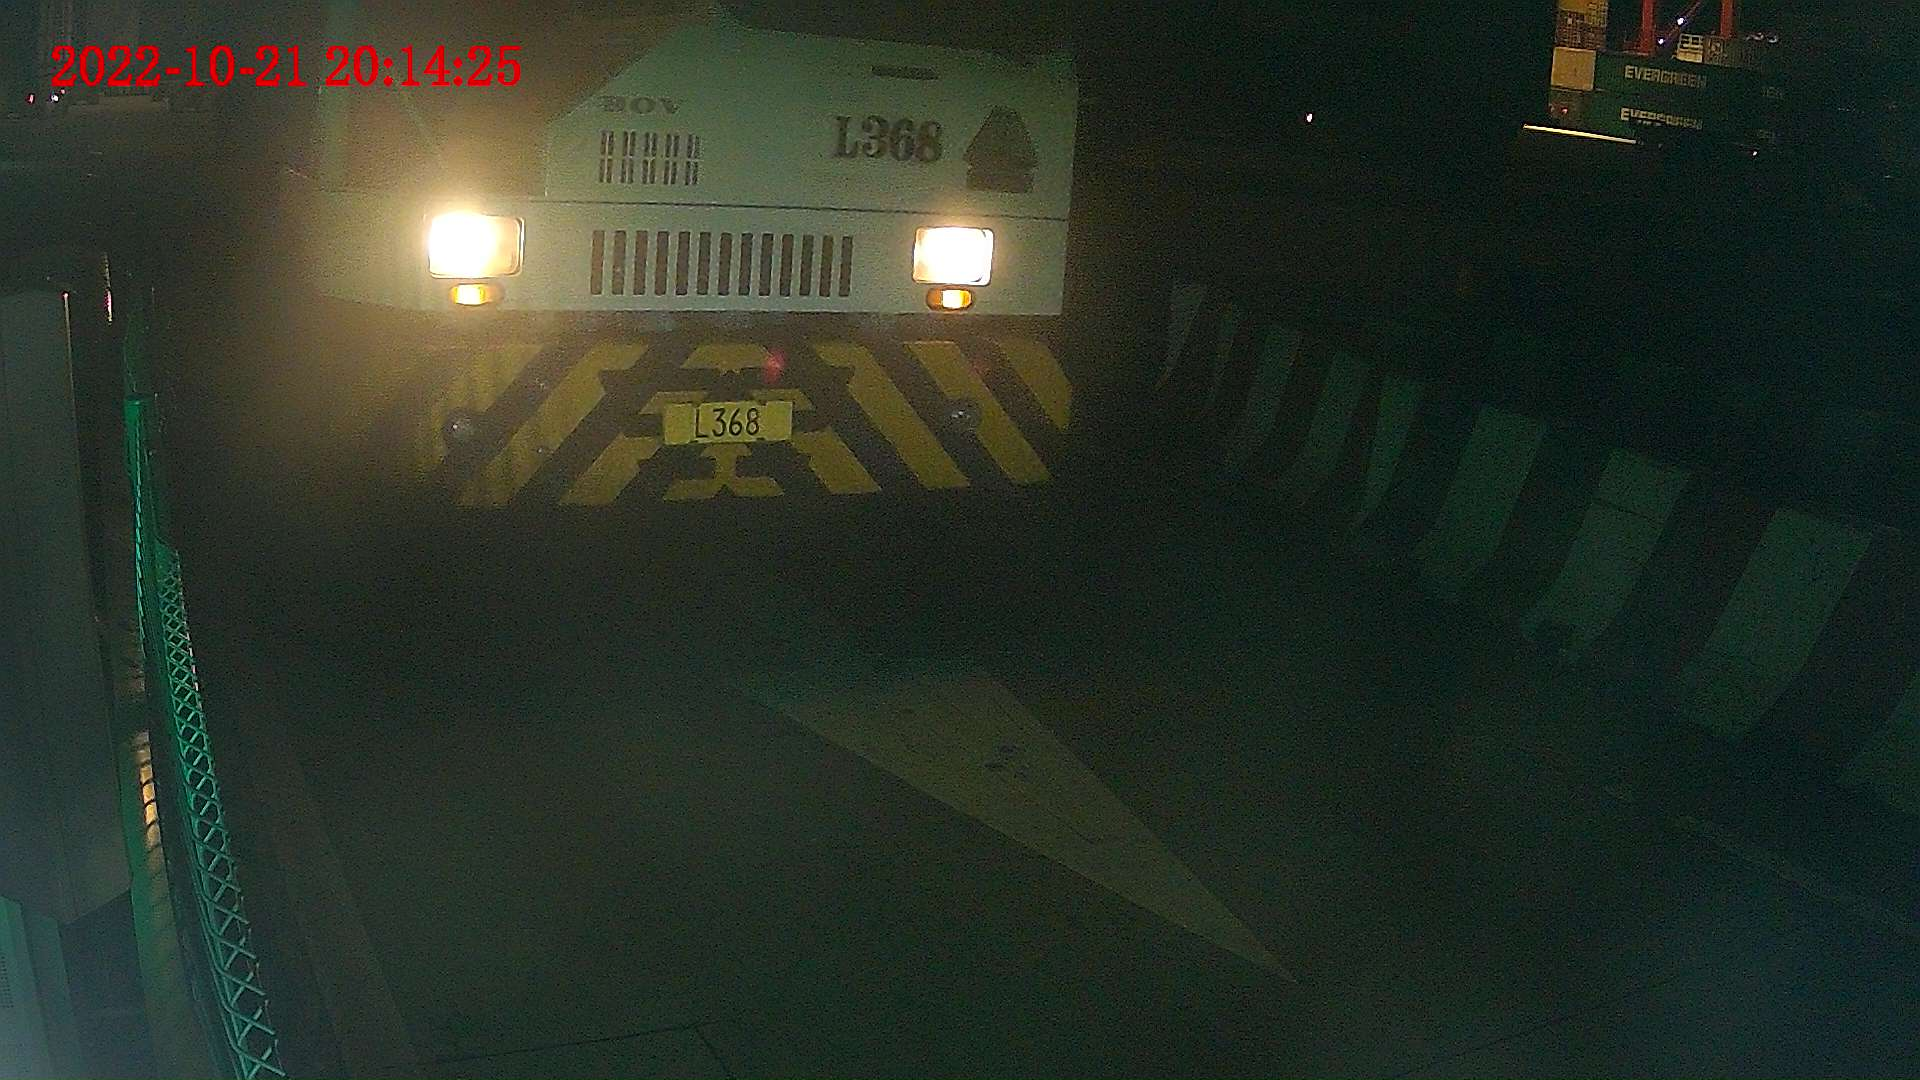head: (272, 1, 1075, 545)
plate: (663, 397, 795, 443)
